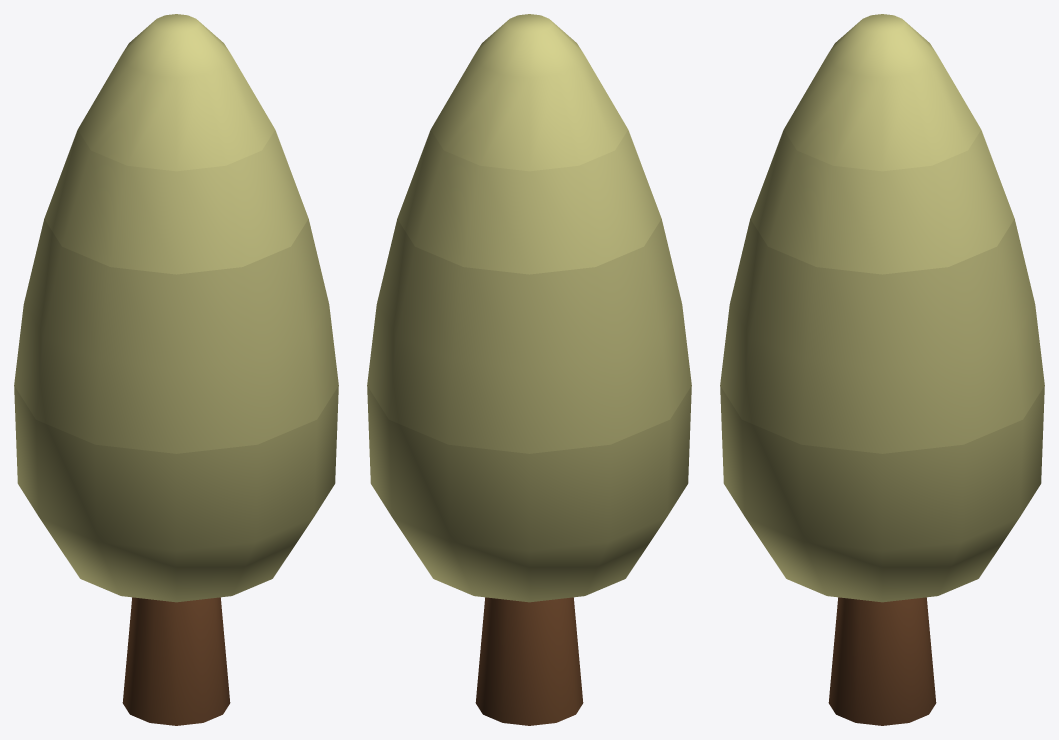
File: Tree02.fbx
The picture shows the model from 3 angles, left to right: view 1: azimuth 30°, elevation 25°; view 2: azimuth 150°, elevation 25°; view 3: azimuth 270°, elevation 25°; orthographic projection.
Parts seen in each view (by area): view 1: Cylinder.008; view 2: Cylinder.008; view 3: Cylinder.008.
Part boxes in pixels (left/top/right/bottom): Cylinder.008: left=14, top=14, right=338, bottom=725; Cylinder.008: left=367, top=14, right=691, bottom=725; Cylinder.008: left=720, top=14, right=1044, bottom=725.
Size of the model in its own units: 2.17 by 2.17 by 5.02.
